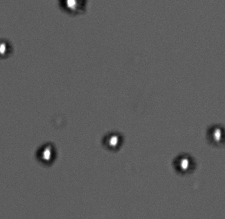Living Cell: (35, 140, 58, 166), (172, 151, 195, 175), (101, 129, 124, 151), (57, 1, 88, 15), (206, 123, 223, 146), (1, 38, 12, 61)
